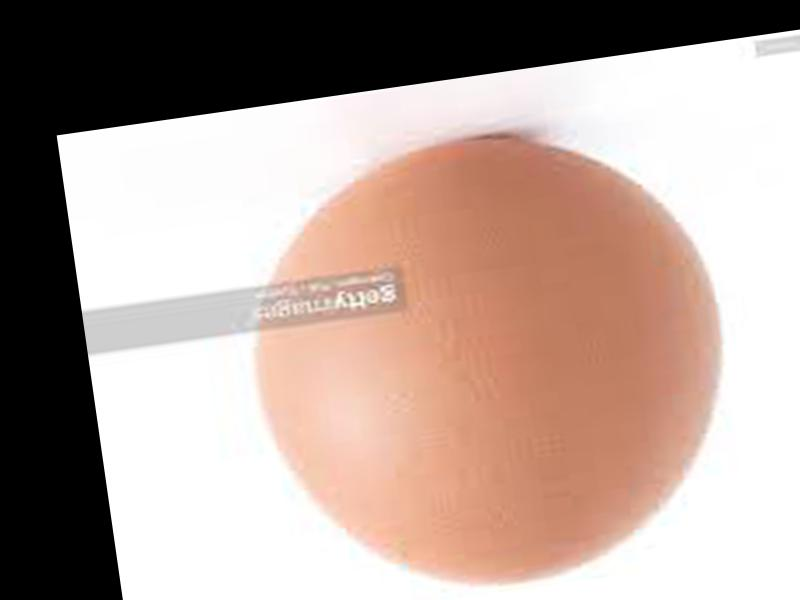Eggs: (228, 117, 751, 600)
